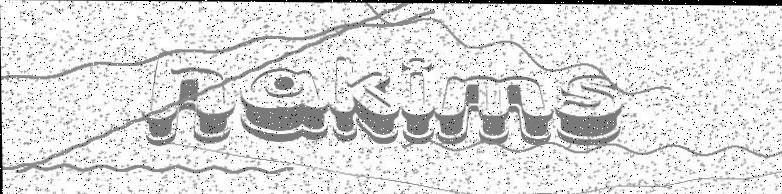a: (233, 62, 334, 140)
h: (144, 45, 237, 141)
i: (397, 52, 441, 150)
k: (332, 51, 398, 149)
m: (434, 74, 554, 147)
s: (556, 69, 627, 148)
